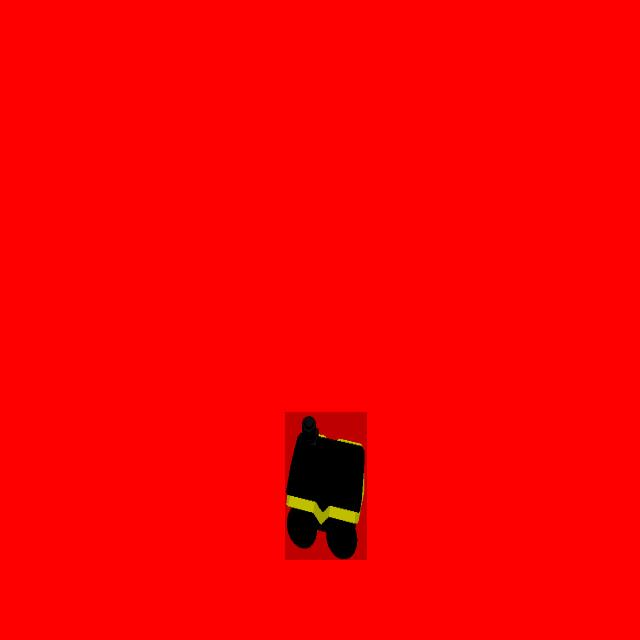jackal: (286, 412, 368, 560)
